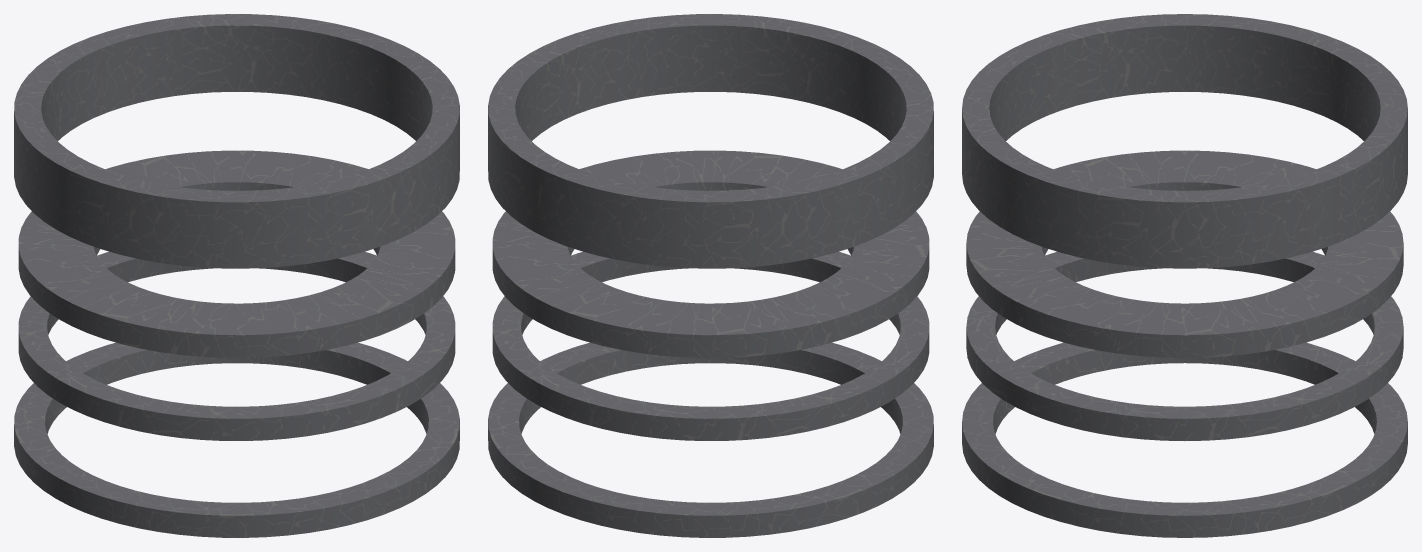
Rendered from field_winter_centertower_ring.fbx.
The picture shows the model from 3 angles, left to right: view 1: azimuth 30°, elevation 25°; view 2: azimuth 150°, elevation 25°; view 3: azimuth 270°, elevation 25°; orthographic projection.
Parts seen in each view (by area): view 1: field_winter_centertower_ring; view 2: field_winter_centertower_ring; view 3: field_winter_centertower_ring.
Boxes of the visible parts, bbox=[...] form: field_winter_centertower_ring: bbox=[14, 14, 459, 537]; field_winter_centertower_ring: bbox=[488, 14, 933, 537]; field_winter_centertower_ring: bbox=[962, 14, 1407, 537].
Size of the model in its own units: 1393 by 1157 by 1393.
Materials: 1 (1 with a texture image).
